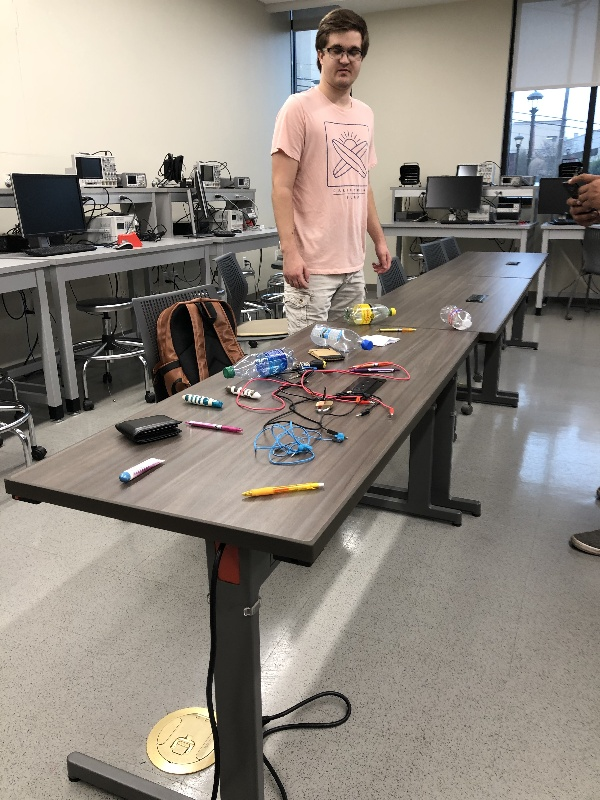bottle: (220, 347, 300, 385), (307, 318, 377, 358), (341, 301, 400, 327), (434, 302, 475, 331)
